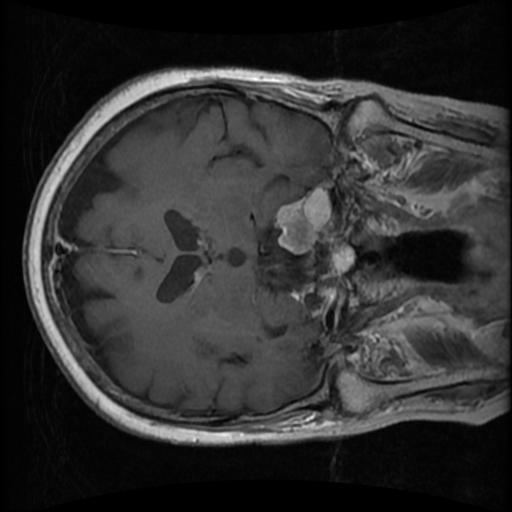meningioma: (273, 186, 332, 256)
